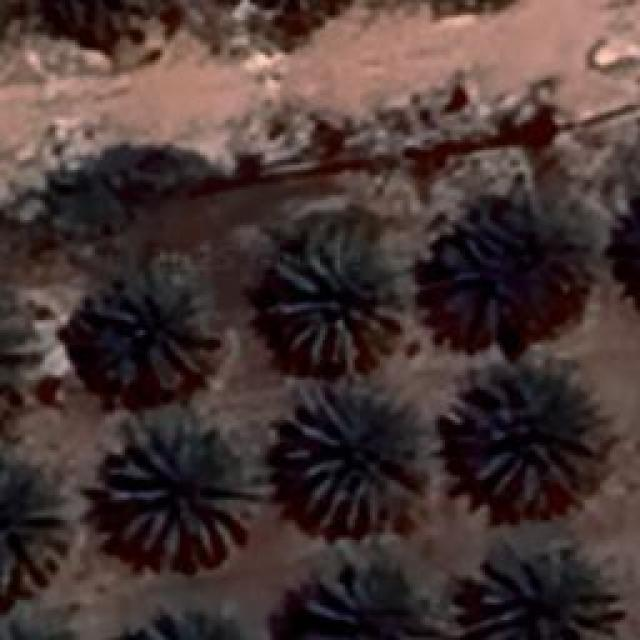PalmTree: (37, 21, 622, 252), (105, 420, 270, 570), (455, 362, 600, 508), (280, 388, 422, 530), (428, 208, 562, 344), (265, 240, 405, 368), (92, 270, 218, 390), (472, 547, 628, 635), (0, 460, 70, 592), (295, 572, 420, 636), (0, 289, 52, 412), (130, 608, 252, 638), (0, 609, 94, 640), (0, 619, 96, 640), (238, 0, 354, 10)
